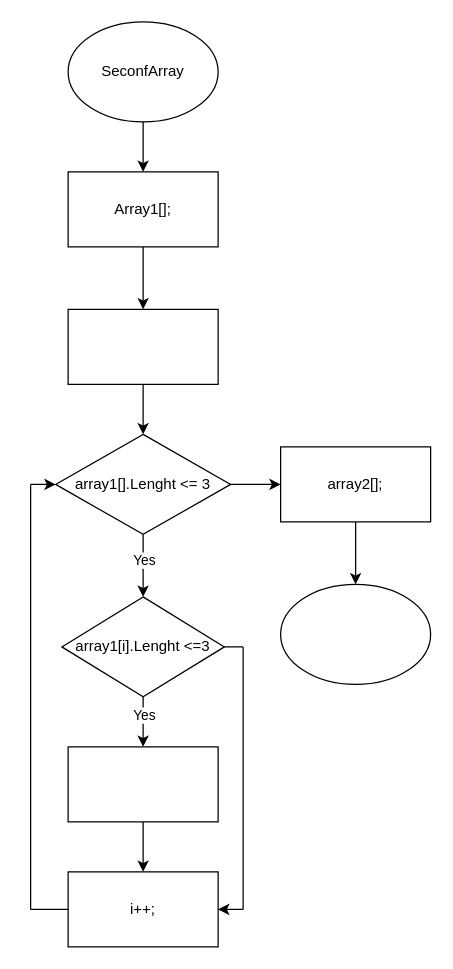
Image size: 453x969. Some labels were removed from this diagram. The centre of each missing label's shape, as x and y in pixels:
"array2[]; Count = 0; i = 0;" belongs at point (142, 346).
"Array2[Count] = array1[i]; Count++;" belongs at point (142, 784).
"End" belongs at point (355, 633).
